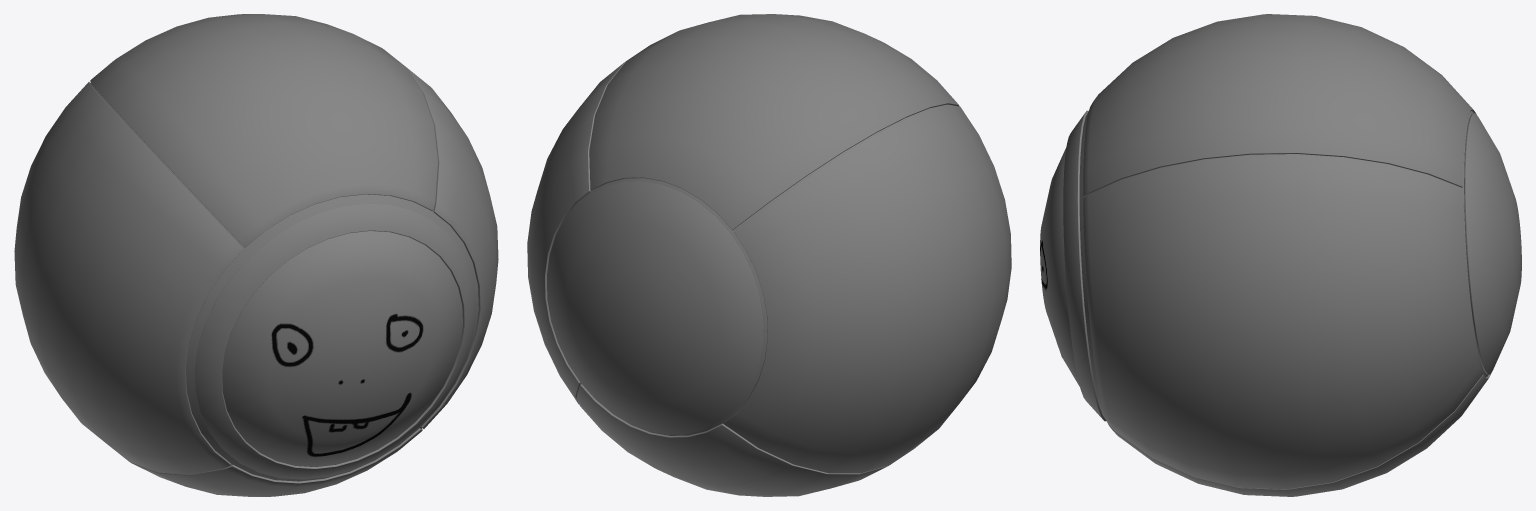
File: Robot.glb
The picture shows the model from 3 angles, left to right: view 1: azimuth 30°, elevation 25°; view 2: azimuth 150°, elevation 25°; view 3: azimuth 270°, elevation 25°; orthographic projection.
Visible parts, largest first — view 1: mesh_id4, mesh_id6, mesh_id5, mesh_id7; view 2: mesh_id4, mesh_id7, mesh_id5; view 3: mesh_id4, mesh_id5, mesh_id6, mesh_id7.
Part boxes in pixels (x1=…): mesh_id4: x1=14, y1=14, x2=498, y2=496; mesh_id6: x1=222, y1=231, x2=462, y2=466; mesh_id5: x1=176, y1=101, x2=437, y2=240; mesh_id7: x1=90, y1=82, x2=478, y2=481; mesh_id4: x1=527, y1=14, x2=1011, y2=496; mesh_id7: x1=547, y1=104, x2=947, y2=435; mesh_id5: x1=866, y1=34, x2=958, y2=104; mesh_id4: x1=1063, y1=14, x2=1521, y2=496; mesh_id5: x1=1088, y1=38, x2=1172, y2=192; mesh_id6: x1=1040, y1=147, x2=1079, y2=386; mesh_id7: x1=1079, y1=111, x2=1487, y2=419.
Size of the model in its own units: 0.5105 by 0.5095 by 0.5084.
Materials: 7 (7 with a texture image).
